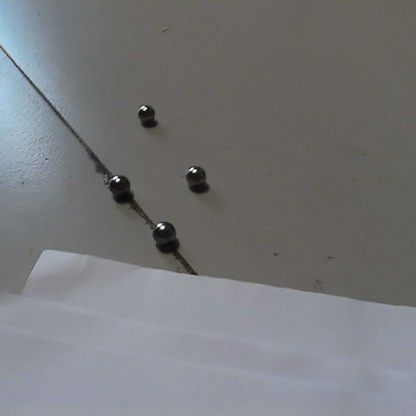ironball: (147, 216, 178, 244), (106, 171, 134, 200), (180, 164, 208, 189), (135, 101, 156, 123)
